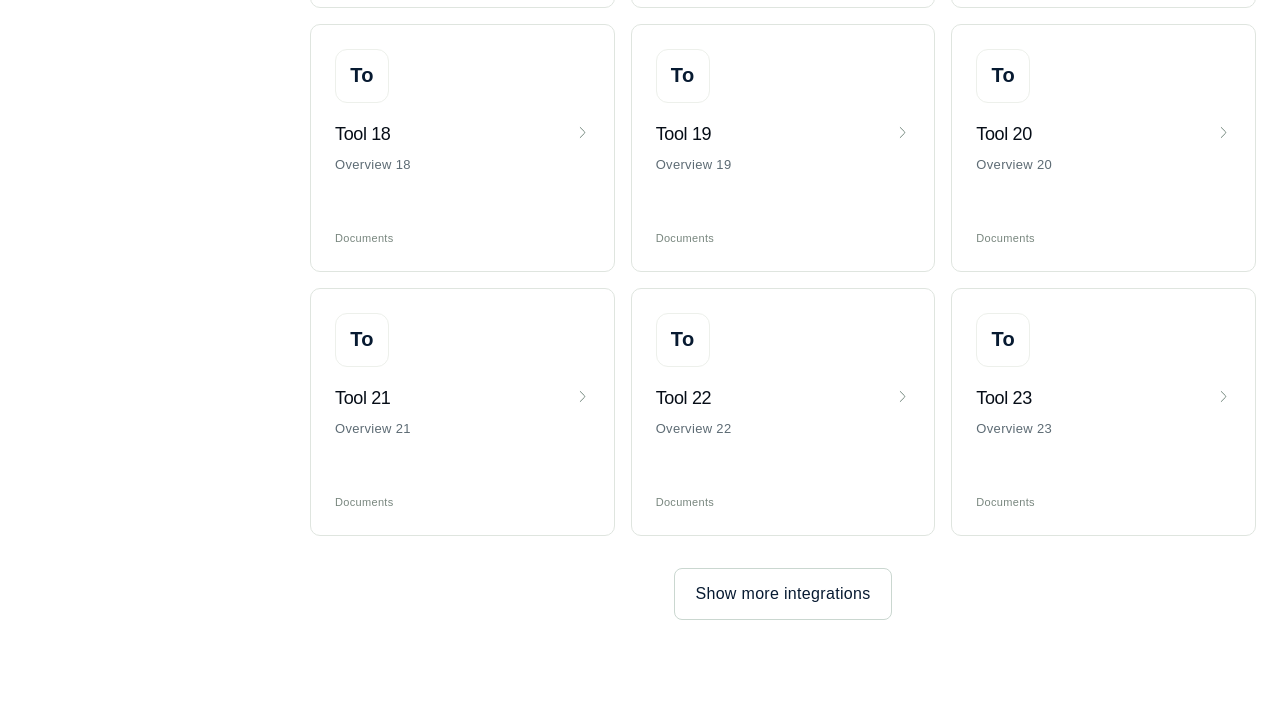
integration directory › searches beyond the first page and resets filters and pagination
This screenshot has width=1280, height=720.
(page scrolled)
expect the heading "Tool 25" is not shown: met
Click the button "Show more integrations" at (783, 594), box [674,568,892,620]
(page scrolled)
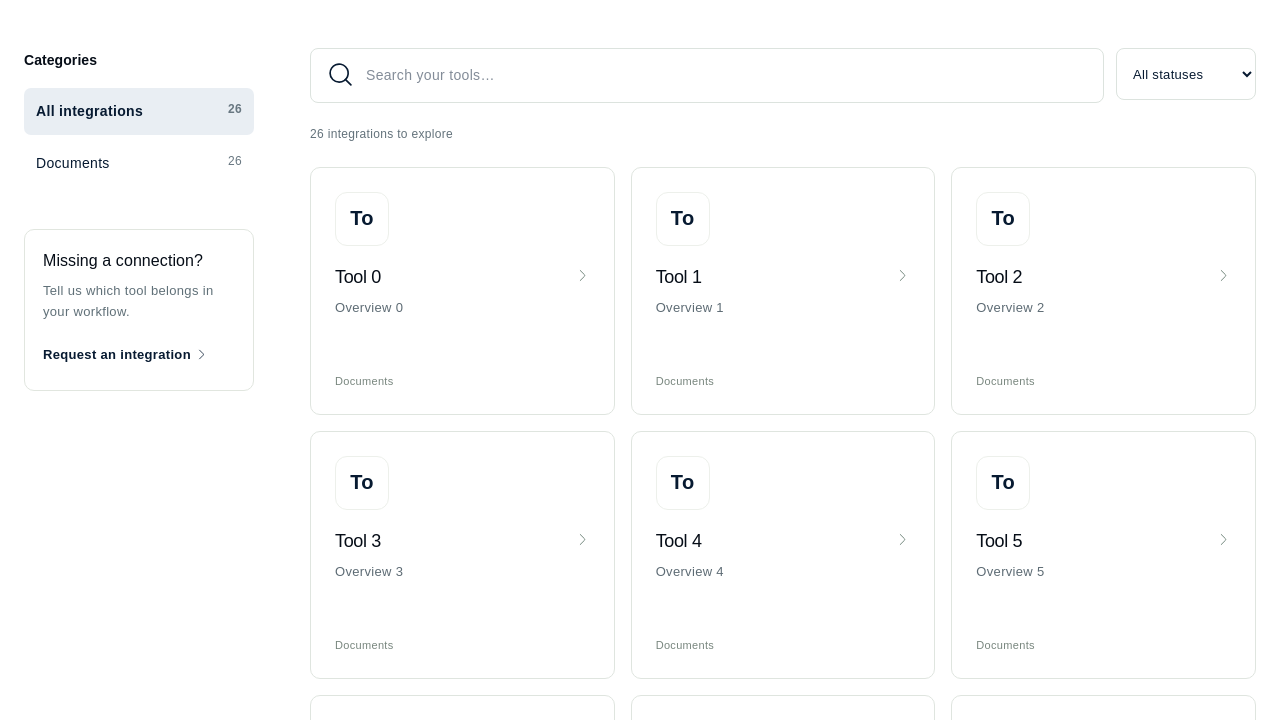
Type "Tool 25" into the search field at (726, 76), box [366,49,1087,102]
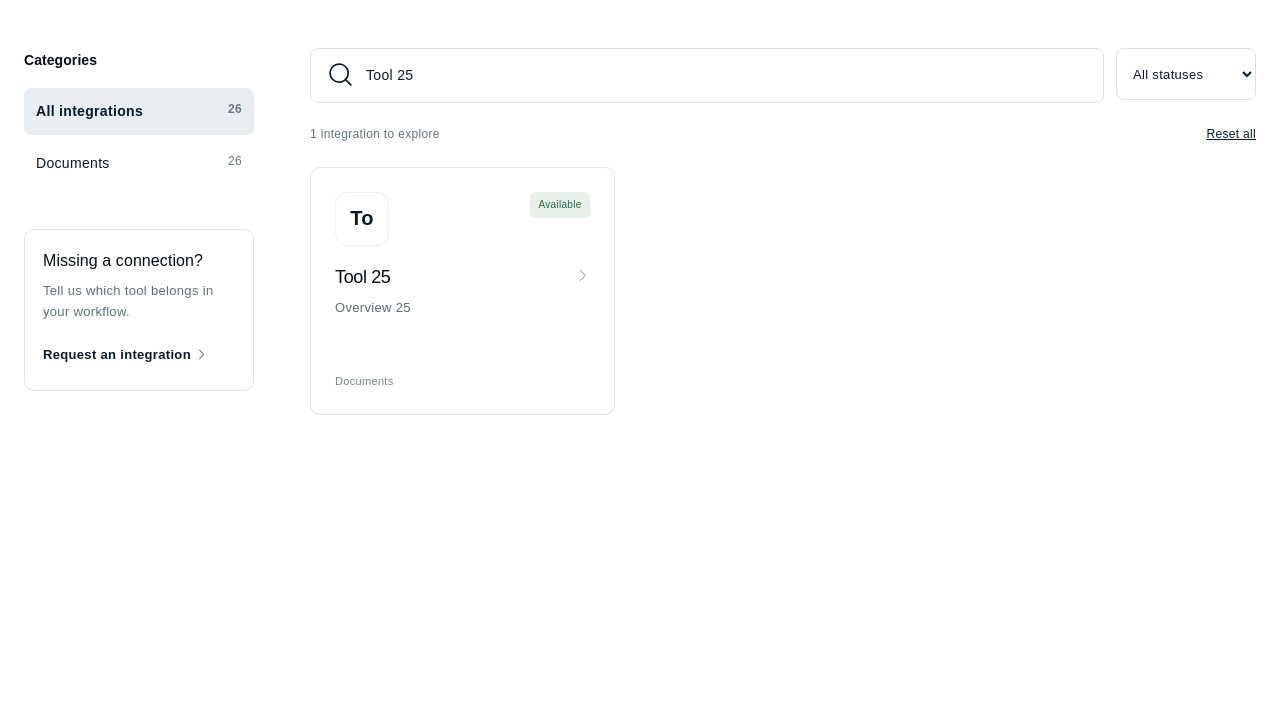
expect the message shows "1 integration": met, box [310,125,440,145]
Select "Planned" in the dropdown at (1186, 74), box [1116,48,1256,100]
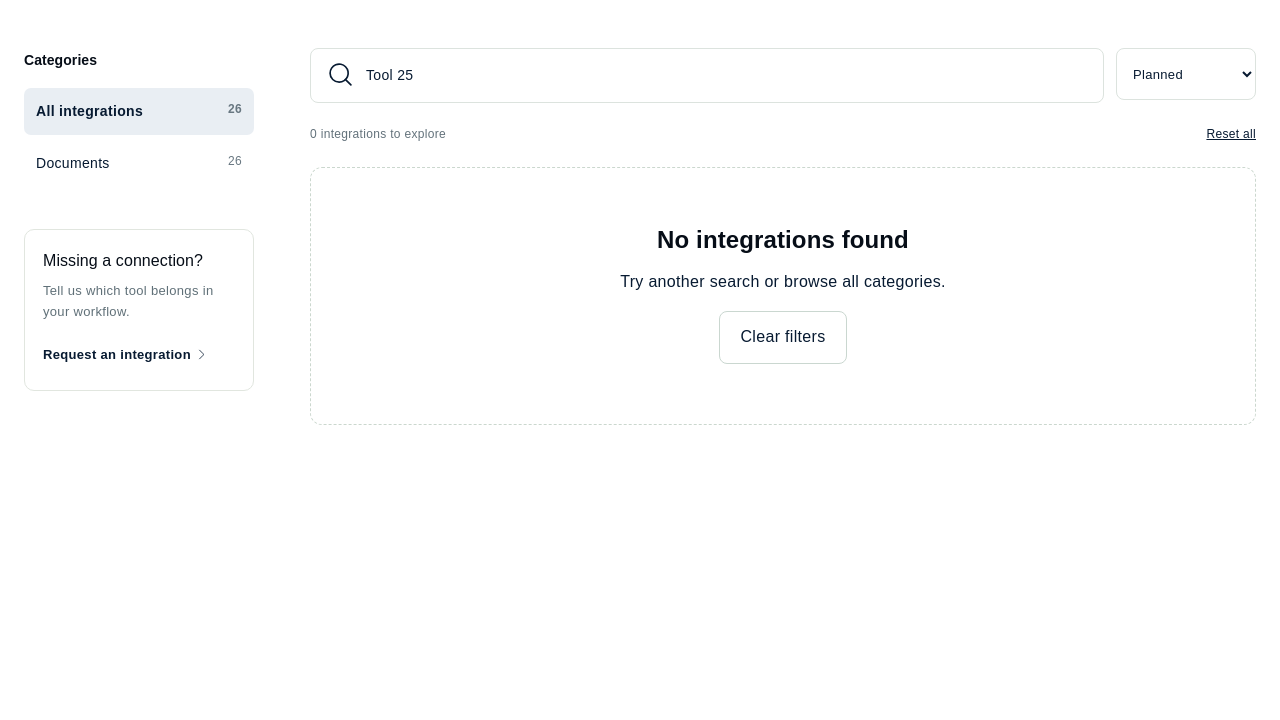
expect the heading "No integrations found" is shown: met, box [657,226,909,253]
Click the button "Reset all" at (1231, 135), box [1206,125,1256,145]
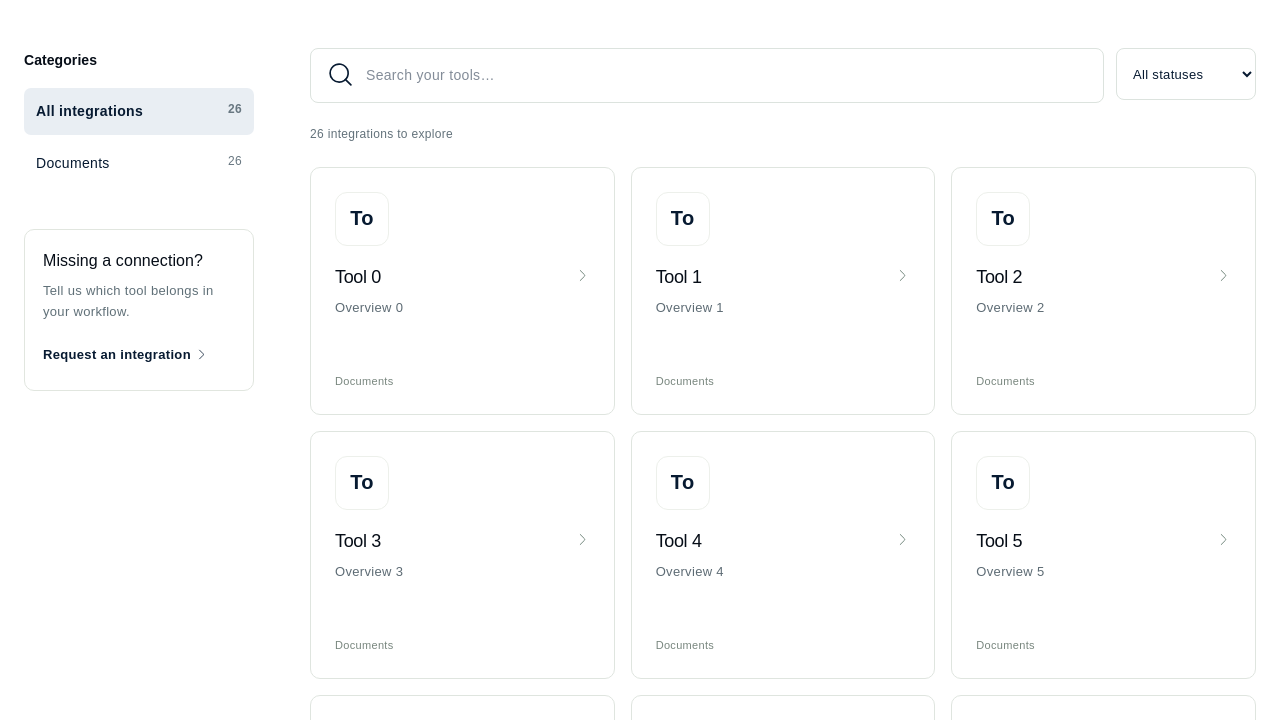
expect the link "Tool 25" is not shown: met
expect the message shows "26 integrations": met, box [310,125,453,145]
expect the search field is empty: met, box [366,49,1087,102]
